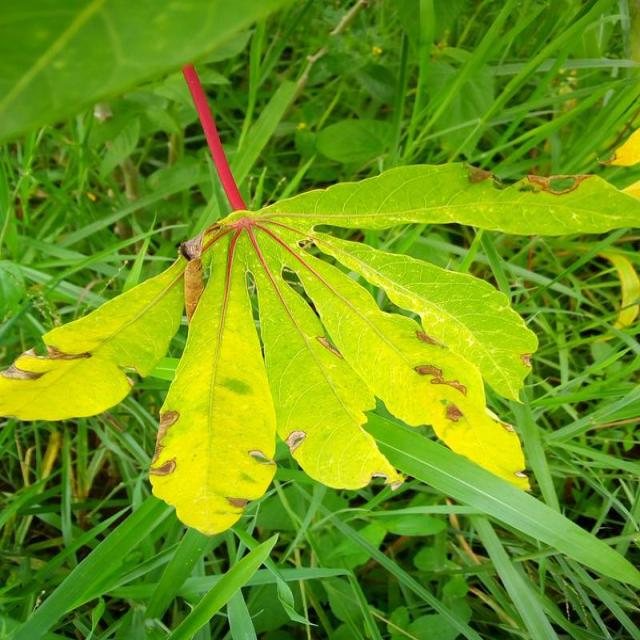cassava leaf: (0, 54, 638, 539), (147, 220, 278, 535)
